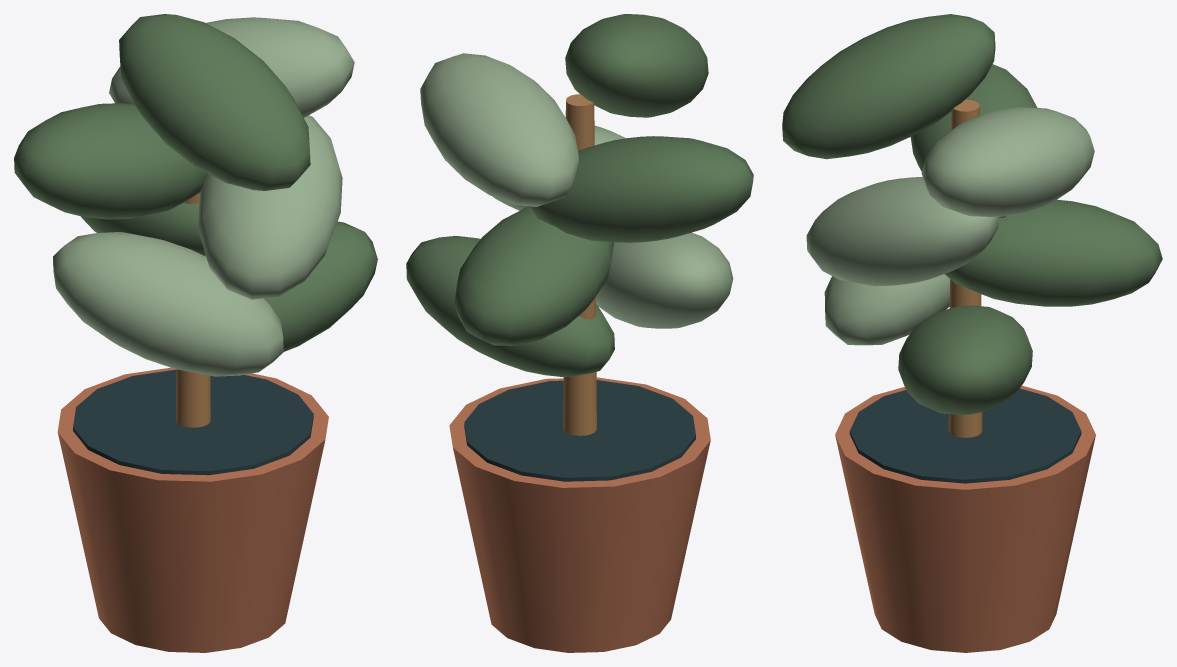
File: plant.glb
3 renders of one model, left to right at view 1: azimuth 30°, elevation 25°; view 2: azimuth 150°, elevation 25°; view 3: azimuth 270°, elevation 25°, orthographic. The views are drawn at different scales.
Visible parts, largest first — view 1: leaf (×7), ceramic-pot, soil, stem; view 2: leaf (×6), ceramic-pot, soil, stem; view 3: leaf (×7), ceramic-pot, soil, stem.
Part boxes in pixels (box(x1,y1,x2,y2)): leaf (×7): box(14, 14, 377, 376); ceramic-pot: box(57, 367, 328, 652); soil: box(73, 369, 313, 475); stem: box(176, 192, 210, 427); leaf (×6): box(406, 14, 753, 377); ceramic-pot: box(449, 377, 710, 652); soil: box(464, 380, 695, 481); stem: box(563, 94, 596, 435); leaf (×7): box(782, 14, 1162, 414); ceramic-pot: box(835, 385, 1095, 652); soil: box(849, 388, 1081, 483); stem: box(948, 99, 982, 437).
Size of the model in its own units: 0.6817 by 1.12 by 0.6708.
